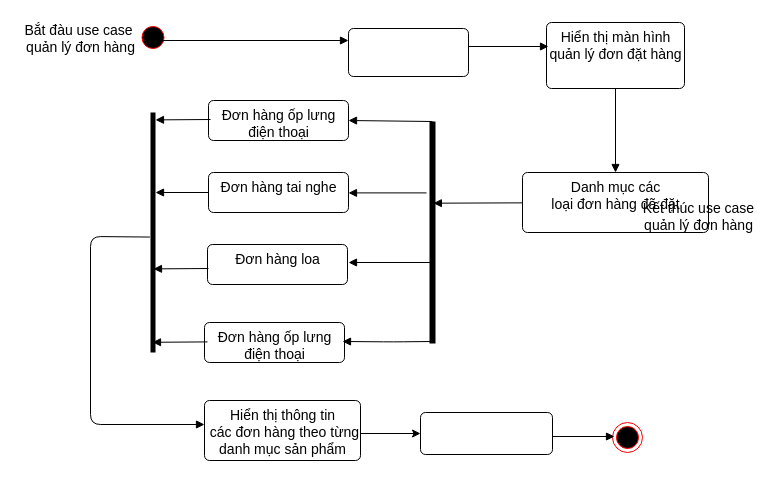
Some shapes in this 778 by 478 pixel diagram are drawn without their labels. Each missing label, with the centre of its shape:
Chuyển giao cho bộ phận giao hàng: the point at 486,433
Hiển thị trang chủ: the point at 408,52
